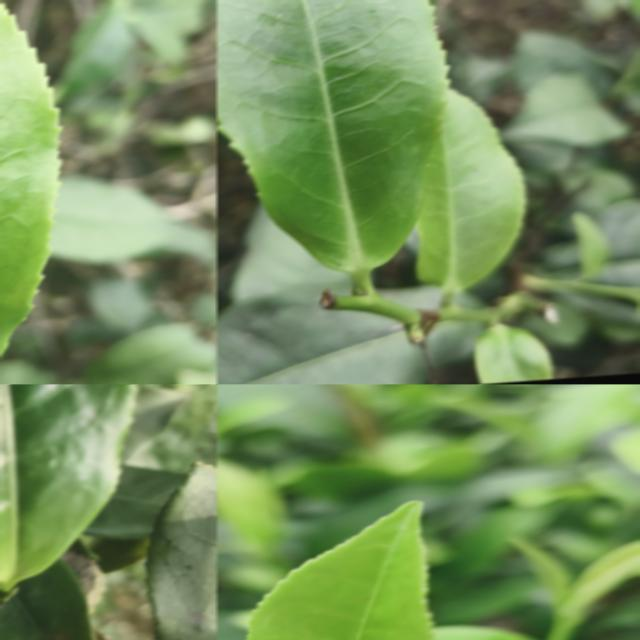Leaf: (216, 0, 448, 291), (0, 384, 134, 585), (245, 501, 433, 640), (416, 89, 525, 296), (216, 292, 427, 384), (50, 174, 215, 264), (145, 462, 218, 640), (503, 73, 628, 146), (85, 322, 218, 384), (534, 384, 640, 458), (0, 559, 94, 640), (83, 465, 186, 538), (555, 539, 640, 619), (216, 384, 345, 434), (216, 458, 284, 550), (511, 30, 610, 93), (473, 323, 552, 383), (593, 198, 640, 285), (426, 320, 481, 366), (433, 624, 537, 640), (379, 285, 440, 308), (543, 239, 579, 277)
